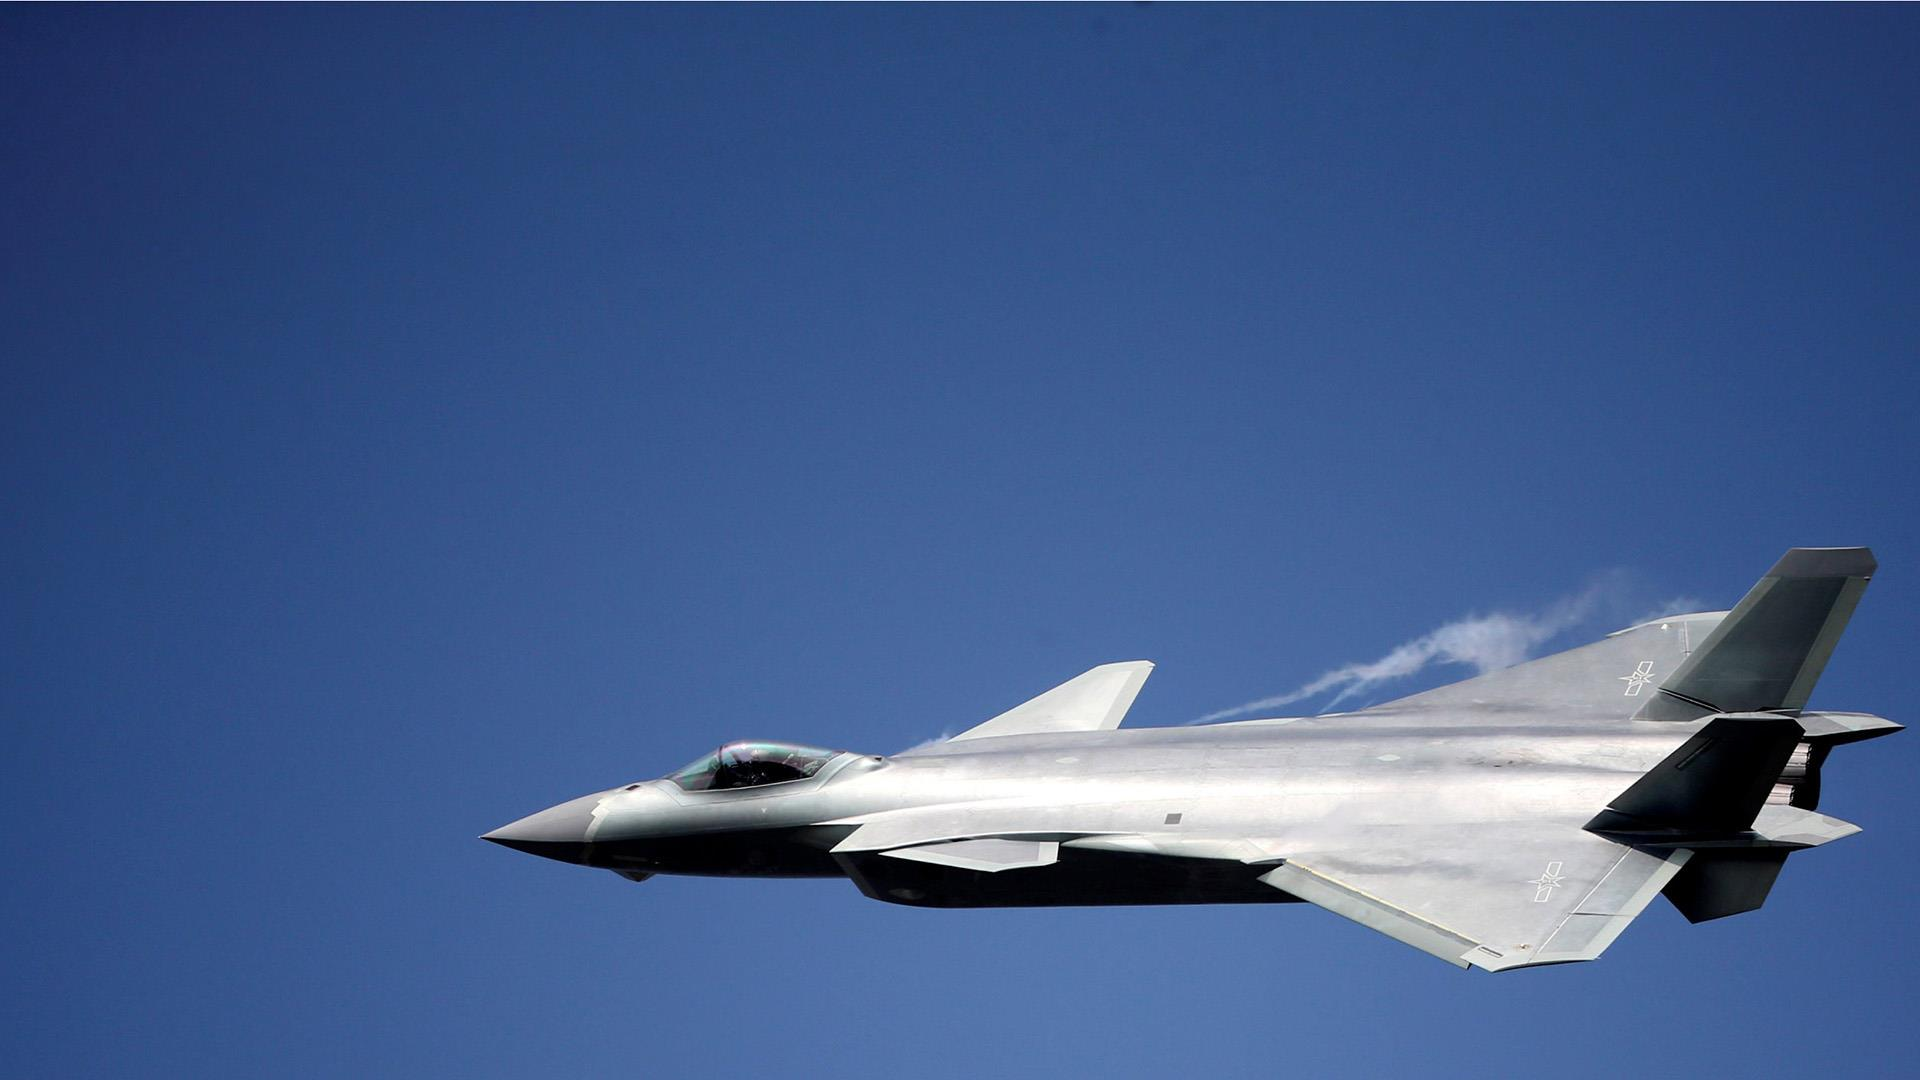J20: (476, 547, 1907, 976)
